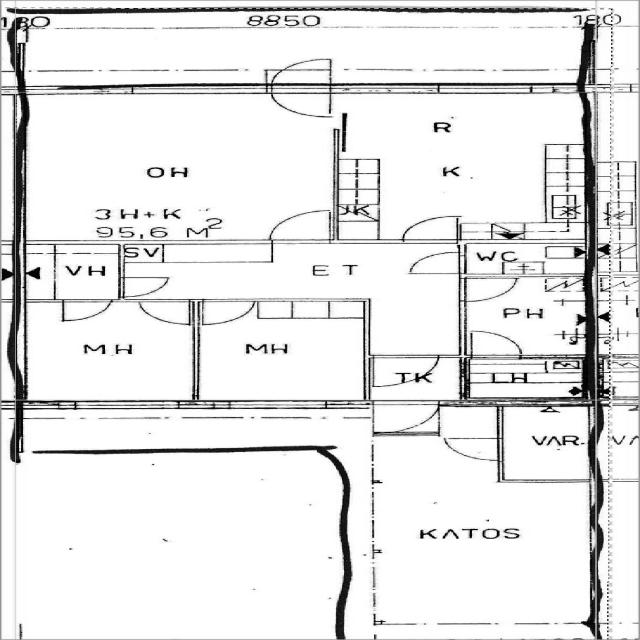door: (17, 298, 199, 402), (459, 274, 595, 356), (366, 350, 448, 428), (260, 57, 346, 122), (361, 352, 446, 388), (363, 399, 444, 435), (392, 212, 472, 246), (267, 207, 338, 245), (436, 435, 508, 464), (191, 299, 261, 327), (461, 329, 527, 358), (456, 275, 523, 303), (134, 298, 201, 326), (52, 298, 117, 325), (114, 274, 178, 300), (404, 251, 469, 276)
window: (338, 81, 574, 99), (47, 84, 286, 100), (49, 398, 174, 416)
zone: (7, 447, 351, 639), (16, 90, 342, 247), (330, 90, 589, 241), (14, 301, 199, 402), (193, 305, 369, 404), (461, 274, 593, 357), (495, 404, 600, 484), (18, 243, 124, 300), (463, 356, 591, 402), (457, 238, 595, 276)
